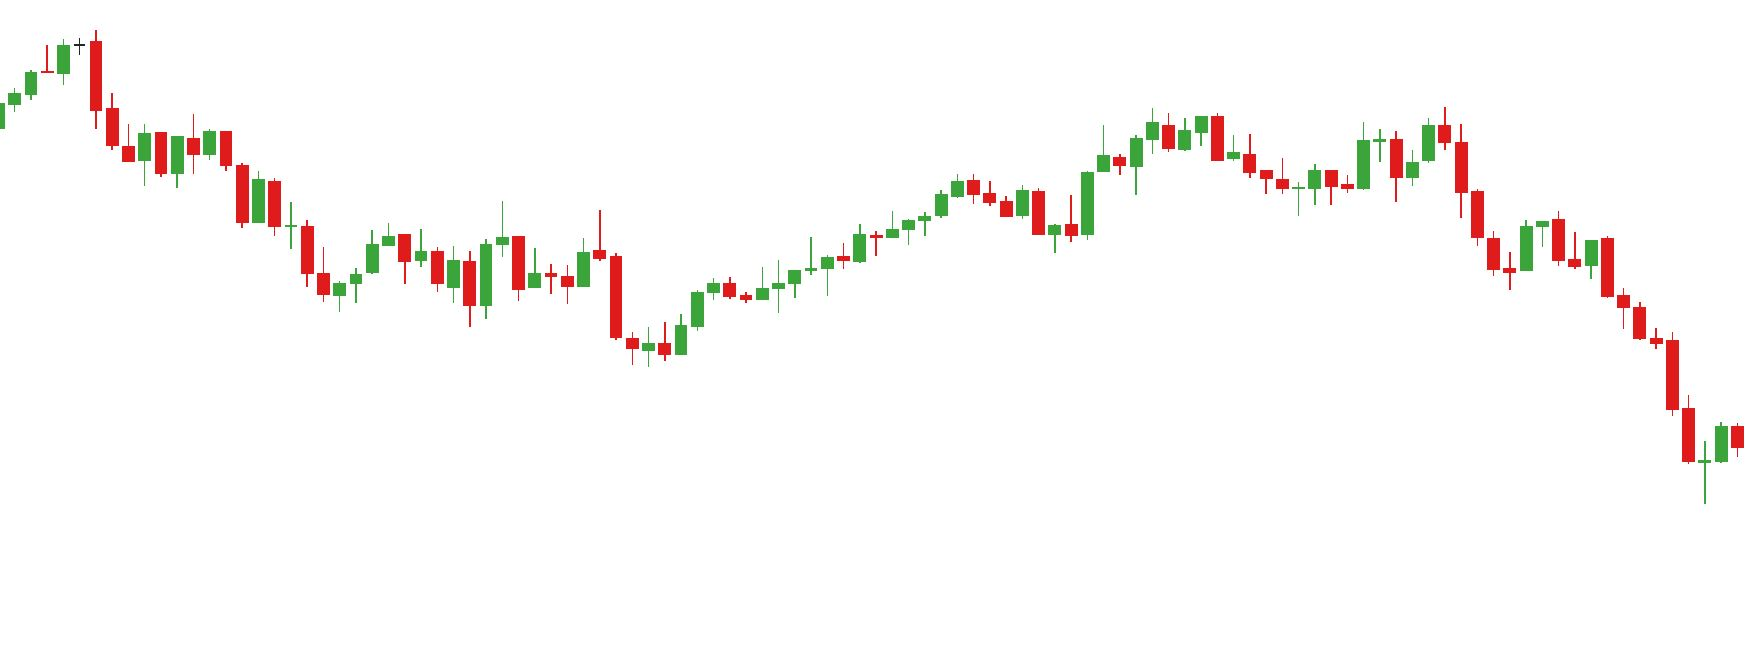sell: (1354, 102, 1453, 180)
